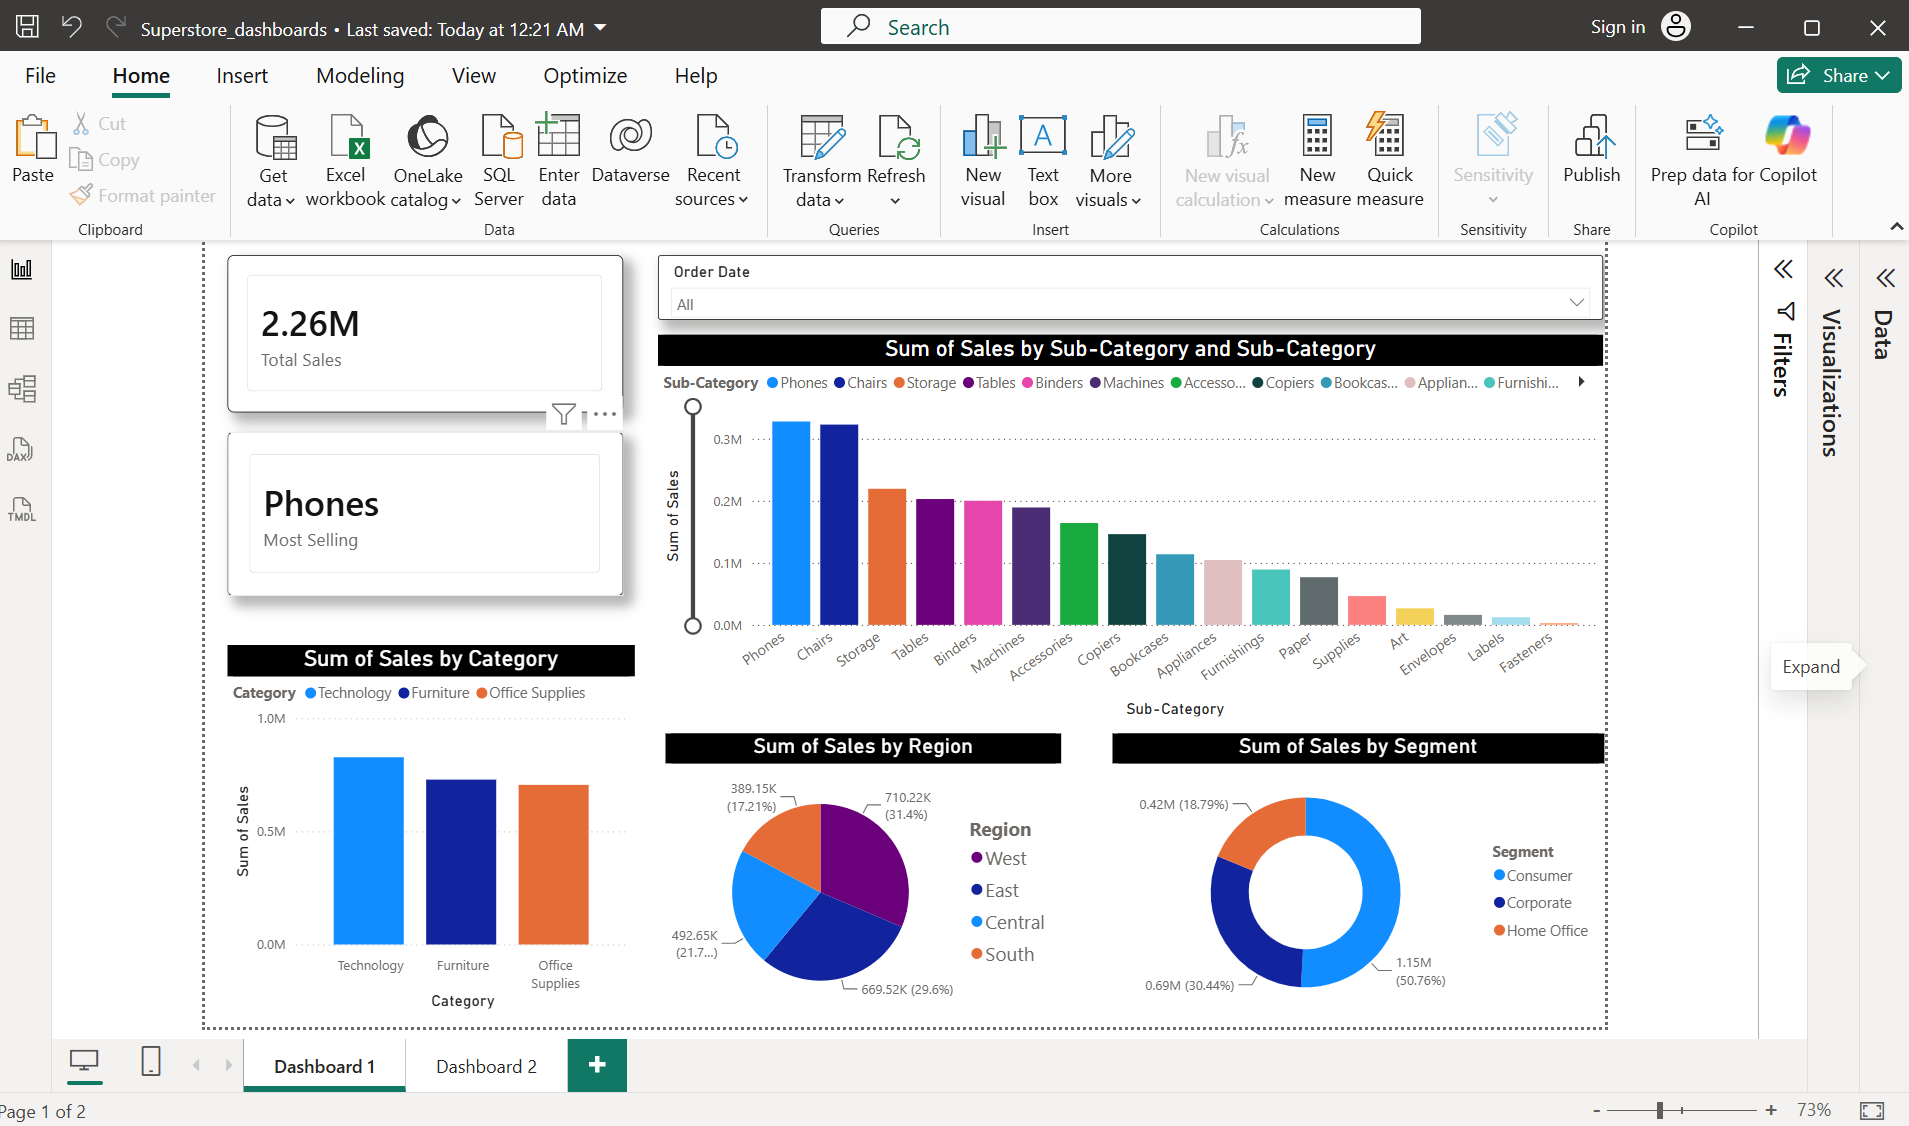

The page's visual inventory and layout, read from the dashboard file:
{"tool":"powerbi","page":{"name":"Dashboard 1","canvas":[1280,720],"ordinal":0},"visuals":[{"type":"columnChart","title":"Sum of Sales by Category ","fields":{"Category":["Superstore Sales Data.Category"],"Y":["Sum(Superstore Sales Data.Sales)"],"Series":["Superstore Sales Data.Category"]},"box":[21.2,371,372.5,337.7],"z":0},{"type":"pieChart","fields":{"Category":["Superstore Sales Data.Region"],"Y":["Sum(Superstore Sales Data.Sales)"]},"box":[420.9,451.2,361.9,268],"z":1000},{"type":"columnChart","fields":{"Category":["Superstore Sales Data.Sub-Category"],"Y":["Sum(Superstore Sales Data.Sales)"],"Series":["Superstore Sales Data.Sub-Category"]},"box":[414.9,86.3,864.6,354.3],"z":2000},{"type":"donutChart","fields":{"Category":["Superstore Sales Data.Segment"],"Y":["Sum(Superstore Sales Data.Sales)"]},"box":[829.8,451.2,449.7,268],"z":3000},{"type":"cardVisual","fields":{"Data":["Sum(Superstore Sales Data.Sales)"]},"box":[21.2,13.6,361.9,143.8],"z":4000},{"type":"cardVisual","fields":{"Data":["Min(Superstore Sales Data.Sub-Category)"]},"box":[21.2,175.6,361.9,149.9],"z":5000},{"type":"slicer","fields":{"Values":["Superstore Sales Data.Order Date"]},"box":[414.9,13.6,864.6,59.1],"z":6000}]}

Visuals, with their boxes on the page's 1280x720 design canvas (x1, y1, x2, y2). These are canvas units, not pixel positions in the 1909x1126 screenshot, which may show the page scaled, cropped or inside an application window:
"Sum of Sales by Category " columnChart: l=21, t=371, r=394, b=709
pieChart - Superstore Sales Data.Region x Sum(Superstore Sales Data.Sales): l=421, t=451, r=783, b=719
columnChart - Superstore Sales Data.Sub-Category x Sum(Superstore Sales Data.Sales): l=415, t=86, r=1280, b=441
donutChart - Superstore Sales Data.Segment x Sum(Superstore Sales Data.Sales): l=830, t=451, r=1280, b=719
cardVisual - Sum(Superstore Sales Data.Sales): l=21, t=14, r=383, b=157
cardVisual - Min(Superstore Sales Data.Sub-Category): l=21, t=176, r=383, b=326
slicer - Superstore Sales Data.Order Date: l=415, t=14, r=1280, b=73
